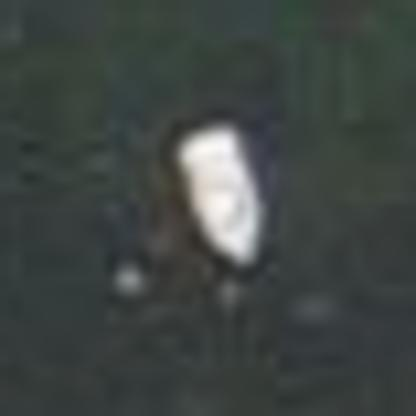ship: (149, 106, 328, 282)
